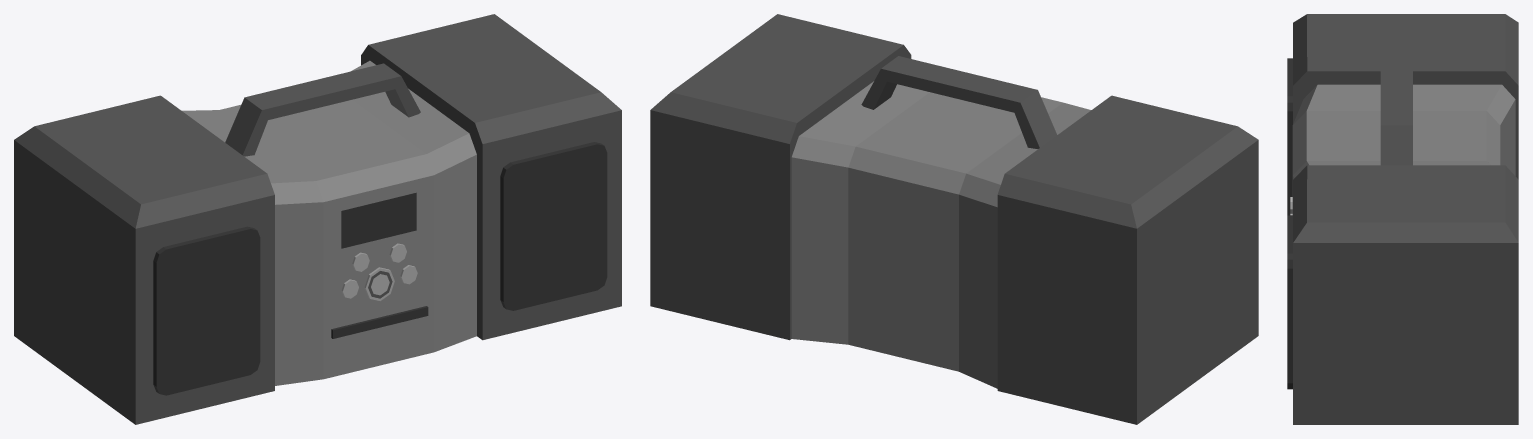
Rendered from radio.glb.
The picture shows the model from 3 angles, left to right: view 1: azimuth 30°, elevation 25°; view 2: azimuth 150°, elevation 25°; view 3: azimuth 270°, elevation 25°; orthographic projection. The views are drawn at different scales.
Parts seen in each view (by area): view 1: Radio; view 2: Radio; view 3: Radio.
Boxes of the visible parts, left/top/right/bottom form: Radio: left=14, top=14, right=621, bottom=424; Radio: left=650, top=14, right=1258, bottom=424; Radio: left=1287, top=14, right=1518, bottom=424.
Size of the model in its own units: 0.561 by 0.2623 by 0.2493.
Materials: 1 (1 with a texture image).
